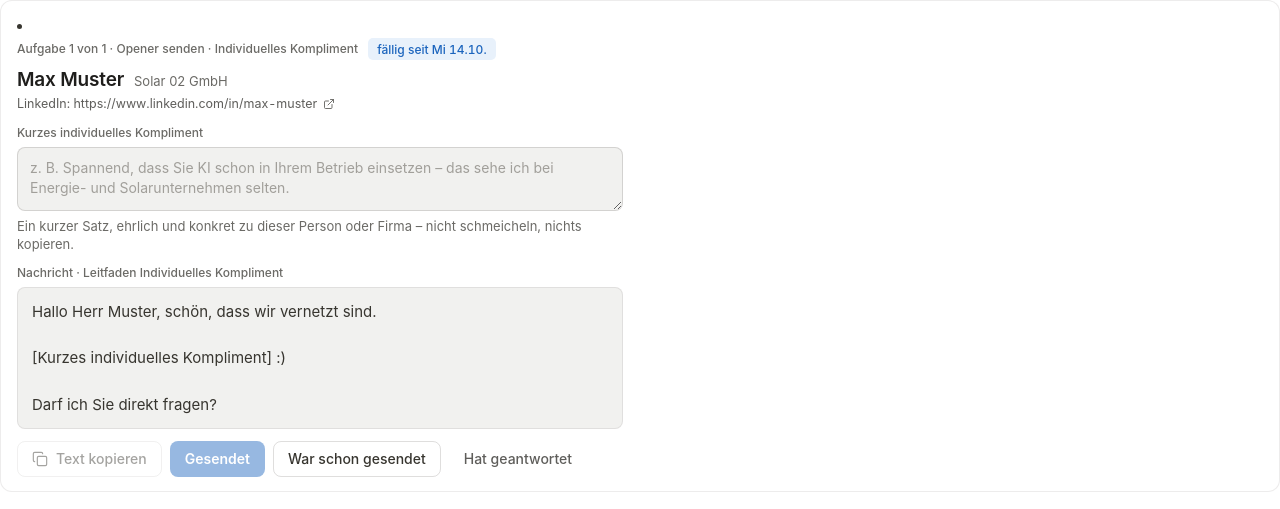
Test: NachrichtZeile – Individuelles Kompliment › Feld für das Kompliment; Text folgt der Eingabe; „Gesendet“ erst danach frei
Check: the button "Gesendet" is disabled, box [170,441,265,477]
Replace the text in the text box labelled "Kurzes individuelles Kompliment" with "Spannend, dass Sie KI schon im Kundenservice einsetzen." at point(320, 179), box [17,147,623,211]
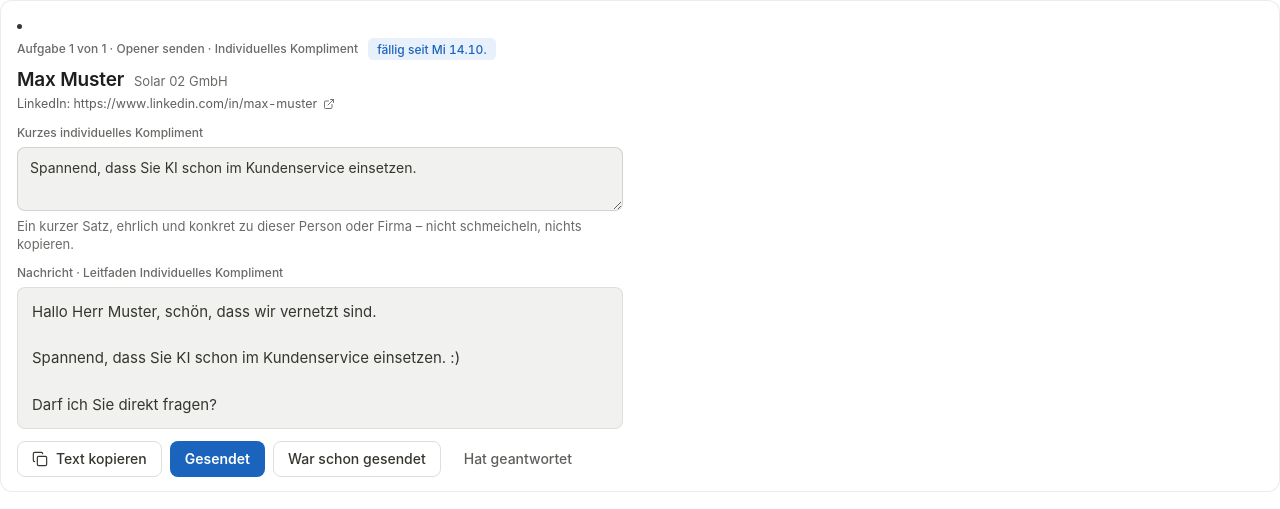
Check: the text "[Kurzes individuelles Kompliment]" is not shown, box [32,302,460,414]
Check: the text "Spannend, dass Sie KI schon im Kundenservice einsetzen. :)" is shown, box [32,302,460,414]
Check: the button "Gesendet" is enabled, box [170,441,265,477]
